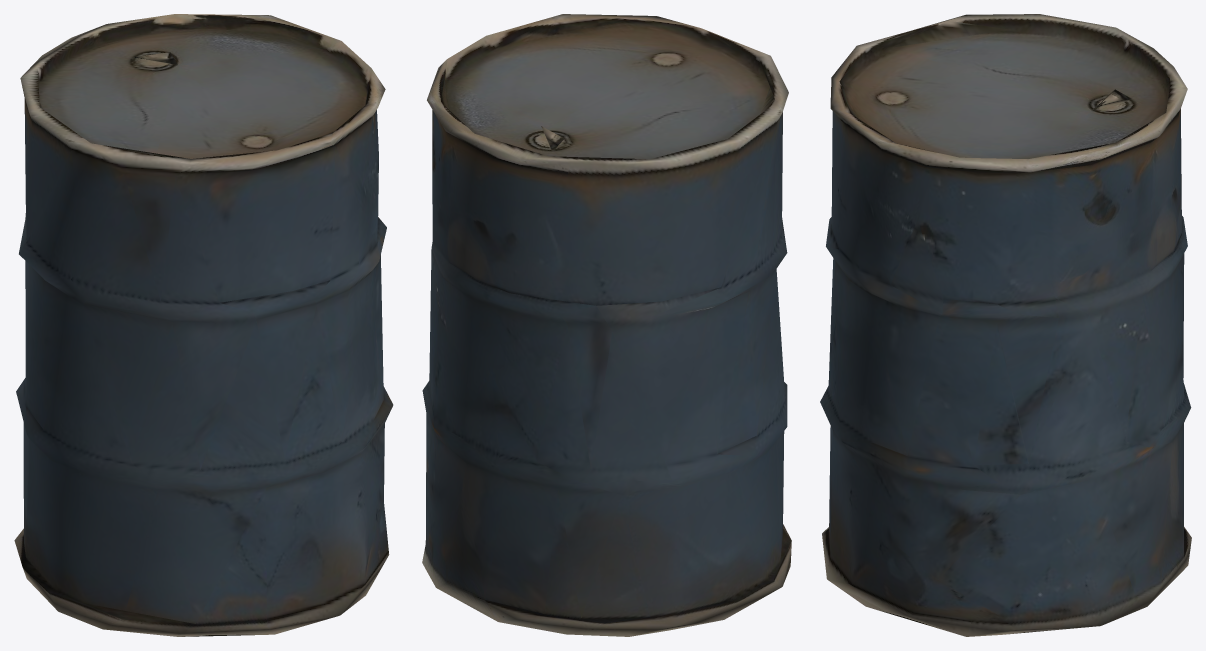
Rendered from tripo_convert_9a3a5ae5-ddfa-4926-8638-1f62e8bd74ee.fbx.
3 views of the same model, side by side, from view 1: azimuth 30°, elevation 25°; view 2: azimuth 150°, elevation 25°; view 3: azimuth 270°, elevation 25° (orthographic).
Visible parts, largest first — view 1: tripo_node_9a3a5ae5; view 2: tripo_node_9a3a5ae5; view 3: tripo_node_9a3a5ae5.
Boxes of the visible parts, x1=… form: tripo_node_9a3a5ae5: x1=14, y1=14, x2=393, y2=636; tripo_node_9a3a5ae5: x1=422, y1=14, x2=791, y2=636; tripo_node_9a3a5ae5: x1=820, y1=14, x2=1191, y2=636.
Size of the model in its own units: 0.6909 by 0.9932 by 0.6913.
Materials: 1 (1 with a texture image).
